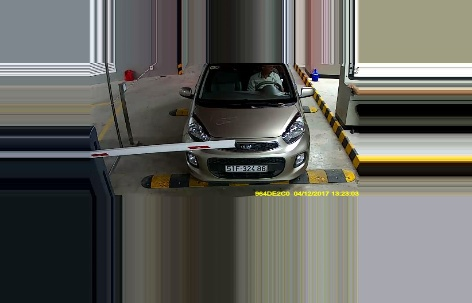plate: (223, 162, 267, 175)
